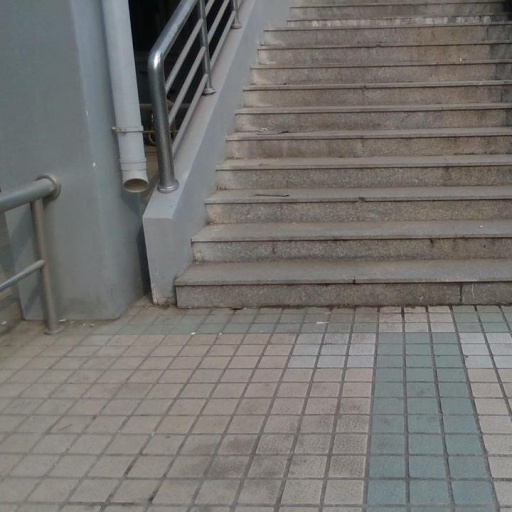Stairs: (175, 0, 512, 306)
